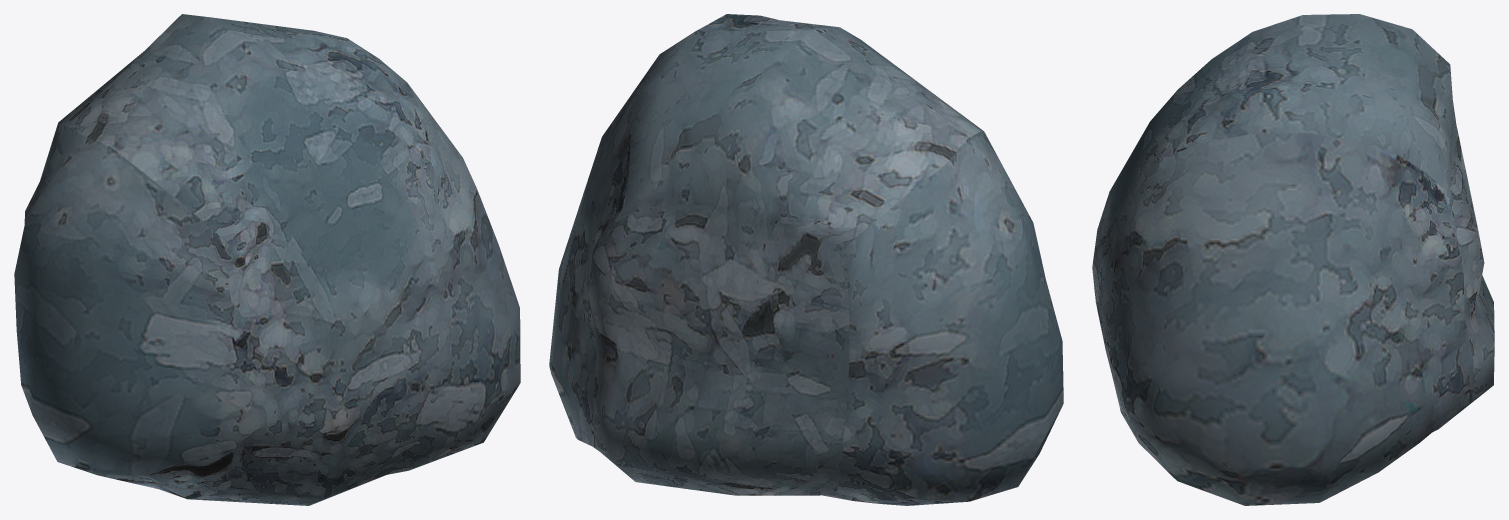
The model's file is rock48.fbx.
3 views of the same model, side by side, from view 1: azimuth 30°, elevation 25°; view 2: azimuth 150°, elevation 25°; view 3: azimuth 270°, elevation 25° (orthographic). The views are drawn at different scales.
Visible parts, largest first — view 1: pCube50; view 2: pCube50; view 3: pCube50.
Boxes of the visible parts, x1,y1,x2,y2 form: pCube50: (14, 14, 520, 505); pCube50: (549, 14, 1063, 505); pCube50: (1092, 14, 1494, 505).
Bounding box in the file's own units: 4.32 × 3.95 × 3.51.
